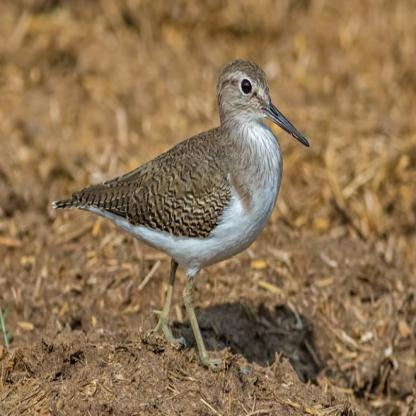Burung: (57, 55, 308, 350)
